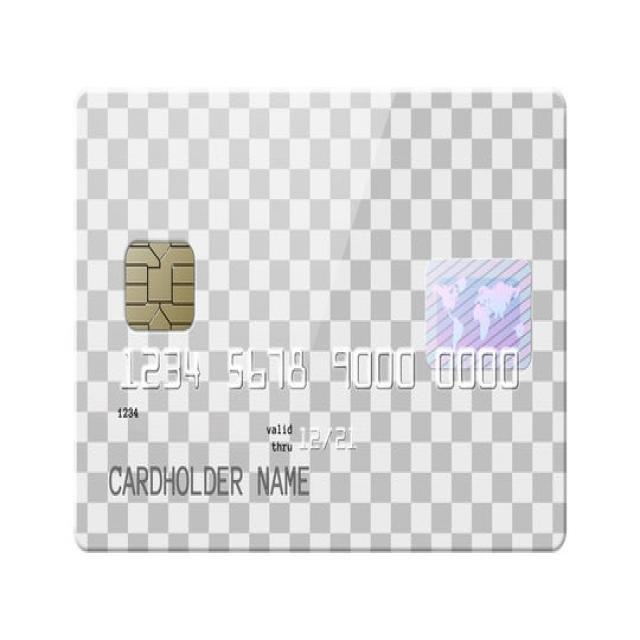payment_card: (73, 88, 567, 552)
